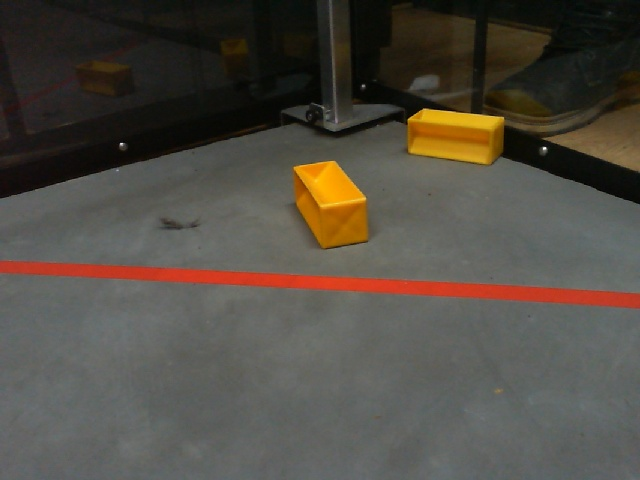YellowSample: (287, 154, 374, 254), (403, 100, 510, 177)
